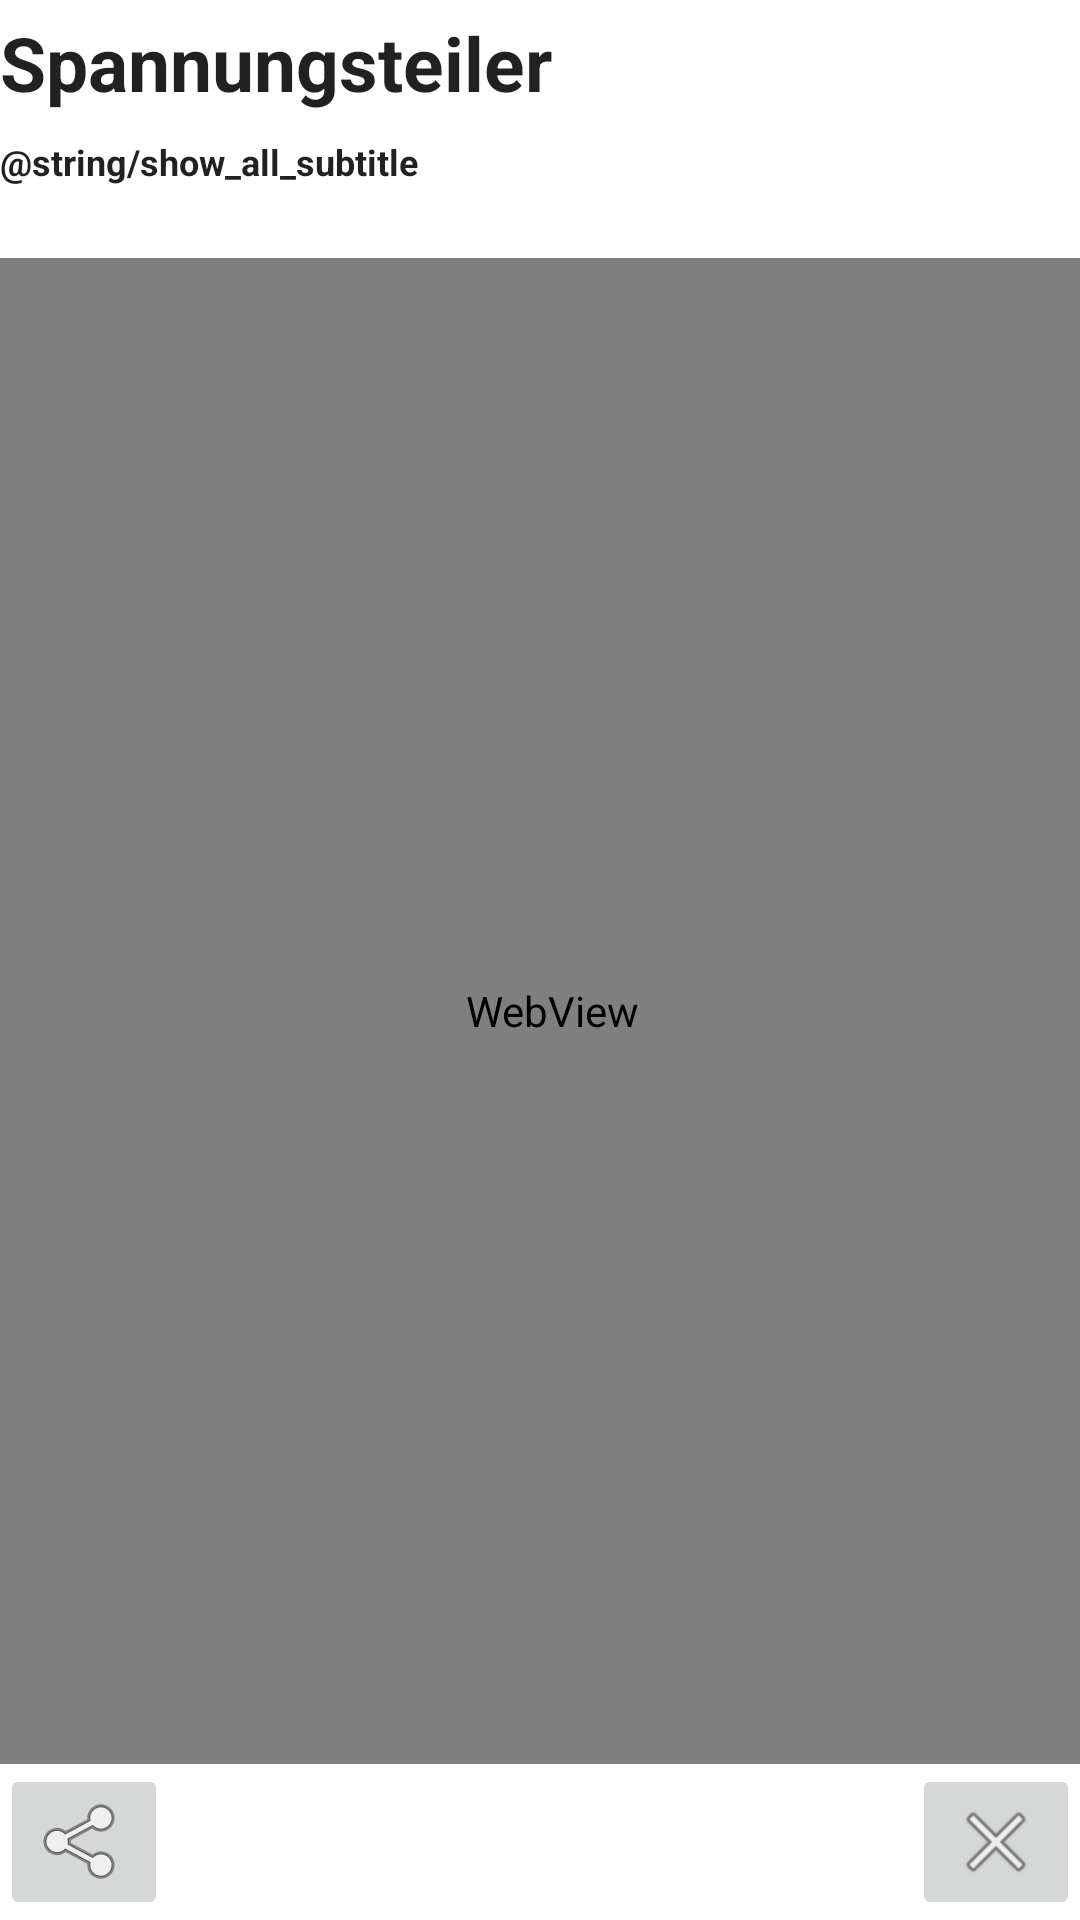

Screen size 1080×1920. Icon name, then its box in pixels as (x1, y1, x2, y2):
close clear cancel: (924, 1782, 1068, 1902)
share: (12, 1782, 156, 1902)
